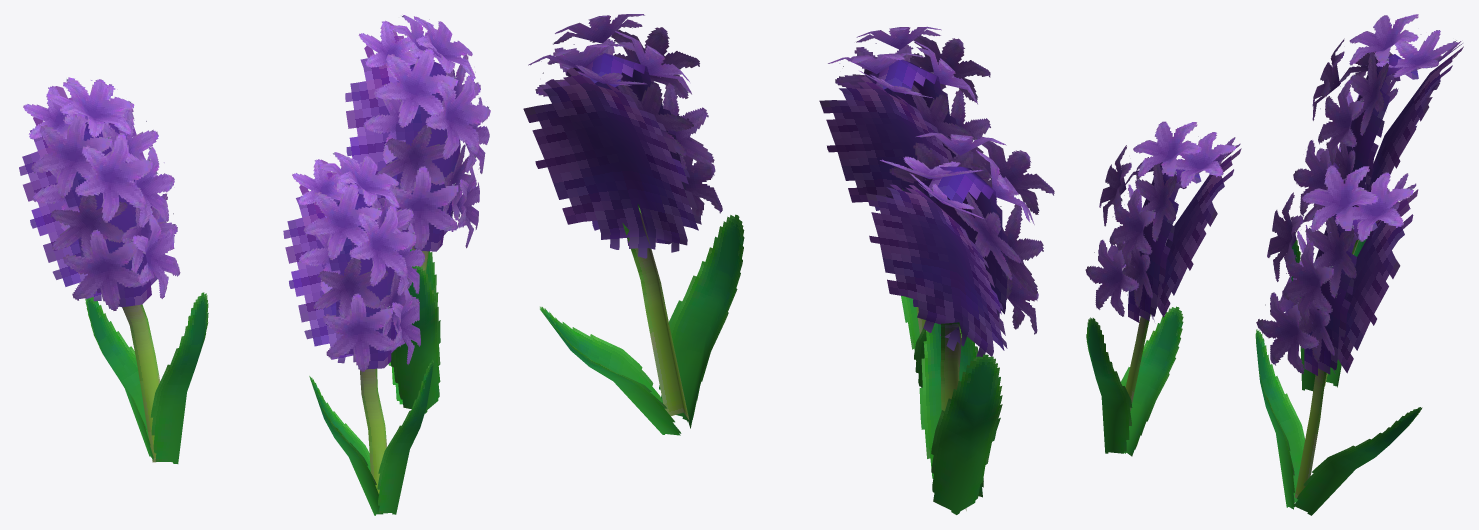
Rendered from purple-hyacinths.glb.
3 views of the same model, side by side, from view 1: azimuth 30°, elevation 25°; view 2: azimuth 150°, elevation 25°; view 3: azimuth 270°, elevation 25° (orthographic). The views are drawn at different scales.
Size of the model in its own units: 9.35 by 7.63 by 7.18.
2 materials, 2 textured.
